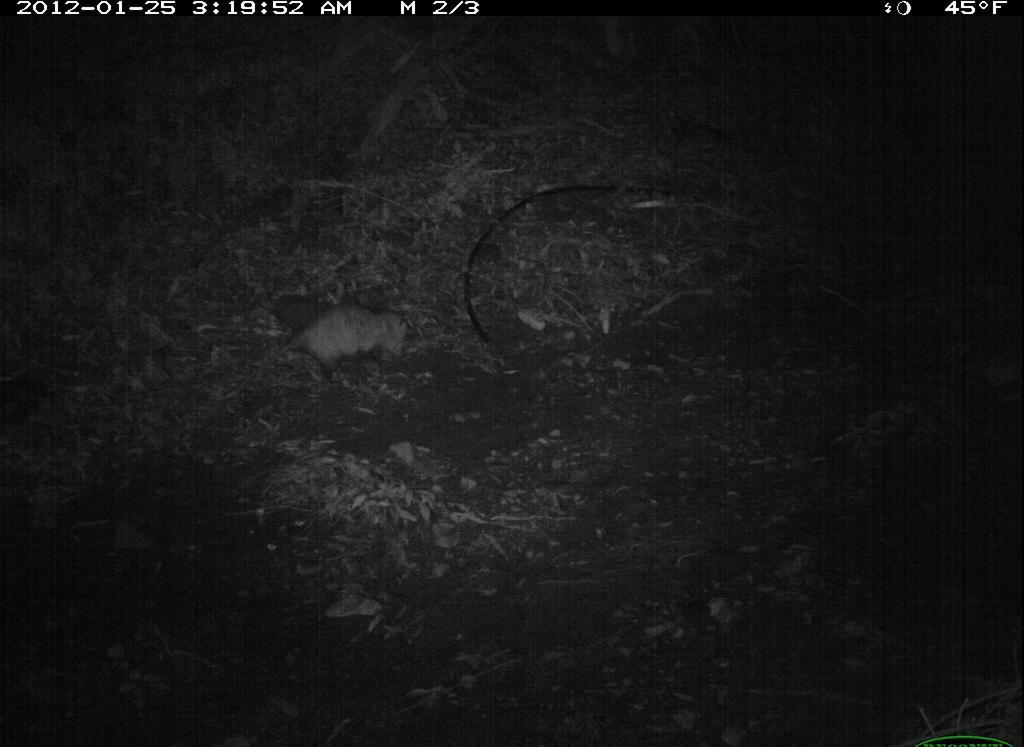opossum: (218, 291, 423, 390)
